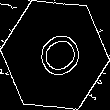O_SW: (26, 25, 84, 85)
